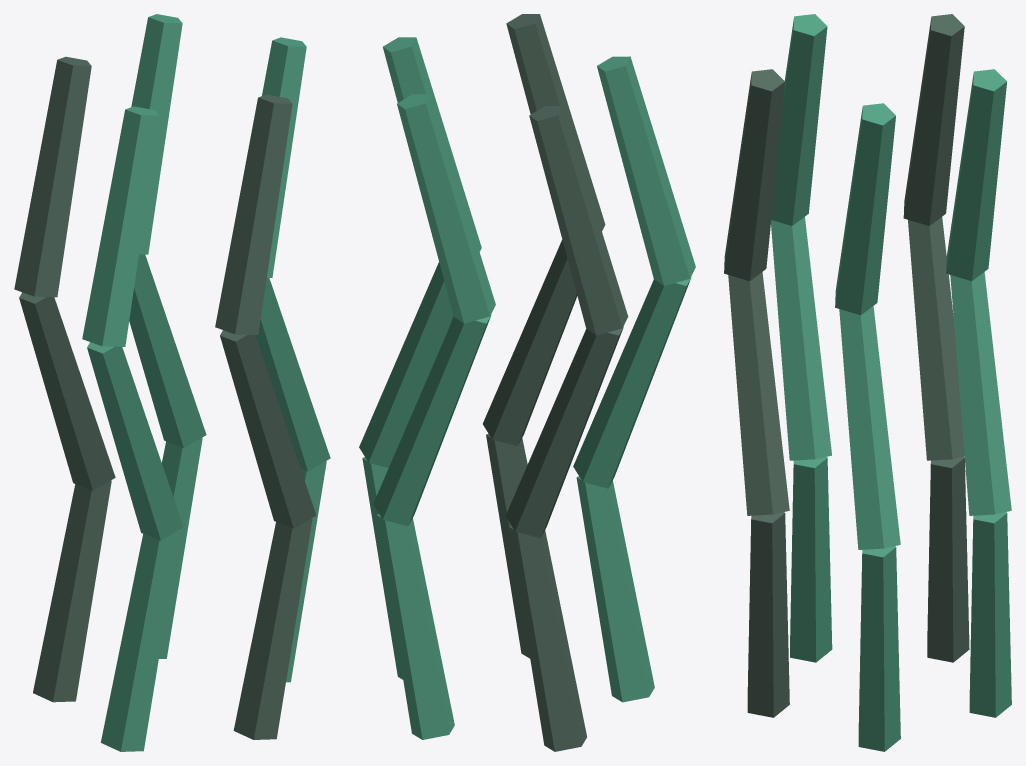
The model's file is ParkParkDecorSeaweed.obj.
The picture shows the model from 3 angles, left to right: view 1: azimuth 30°, elevation 25°; view 2: azimuth 150°, elevation 25°; view 3: azimuth 270°, elevation 25°; orthographic projection.
Parts seen in each view (by area): view 1: ParkParkDecorSeaweed; view 2: ParkParkDecorSeaweed; view 3: ParkParkDecorSeaweed.
Boxes of the visible parts, x1,y1,x2,y2 form: ParkParkDecorSeaweed: (14, 14, 330, 751); ParkParkDecorSeaweed: (359, 14, 695, 751); ParkParkDecorSeaweed: (724, 14, 1011, 751).
Size of the model in its own units: 1.44 by 3.04 by 1.23.
